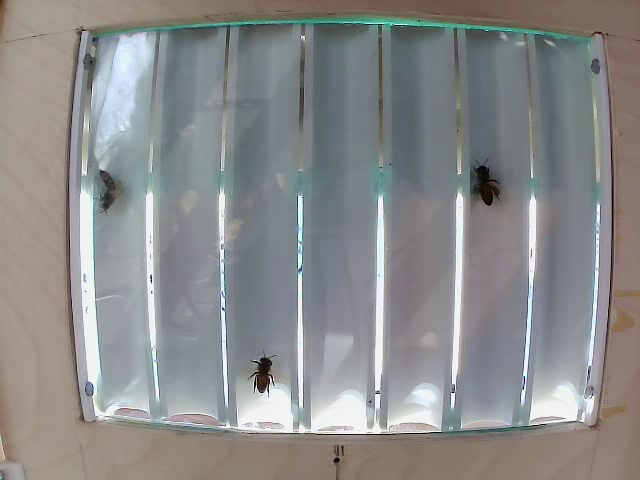bee: (85, 162, 140, 210), (459, 155, 497, 217), (251, 349, 280, 400)
